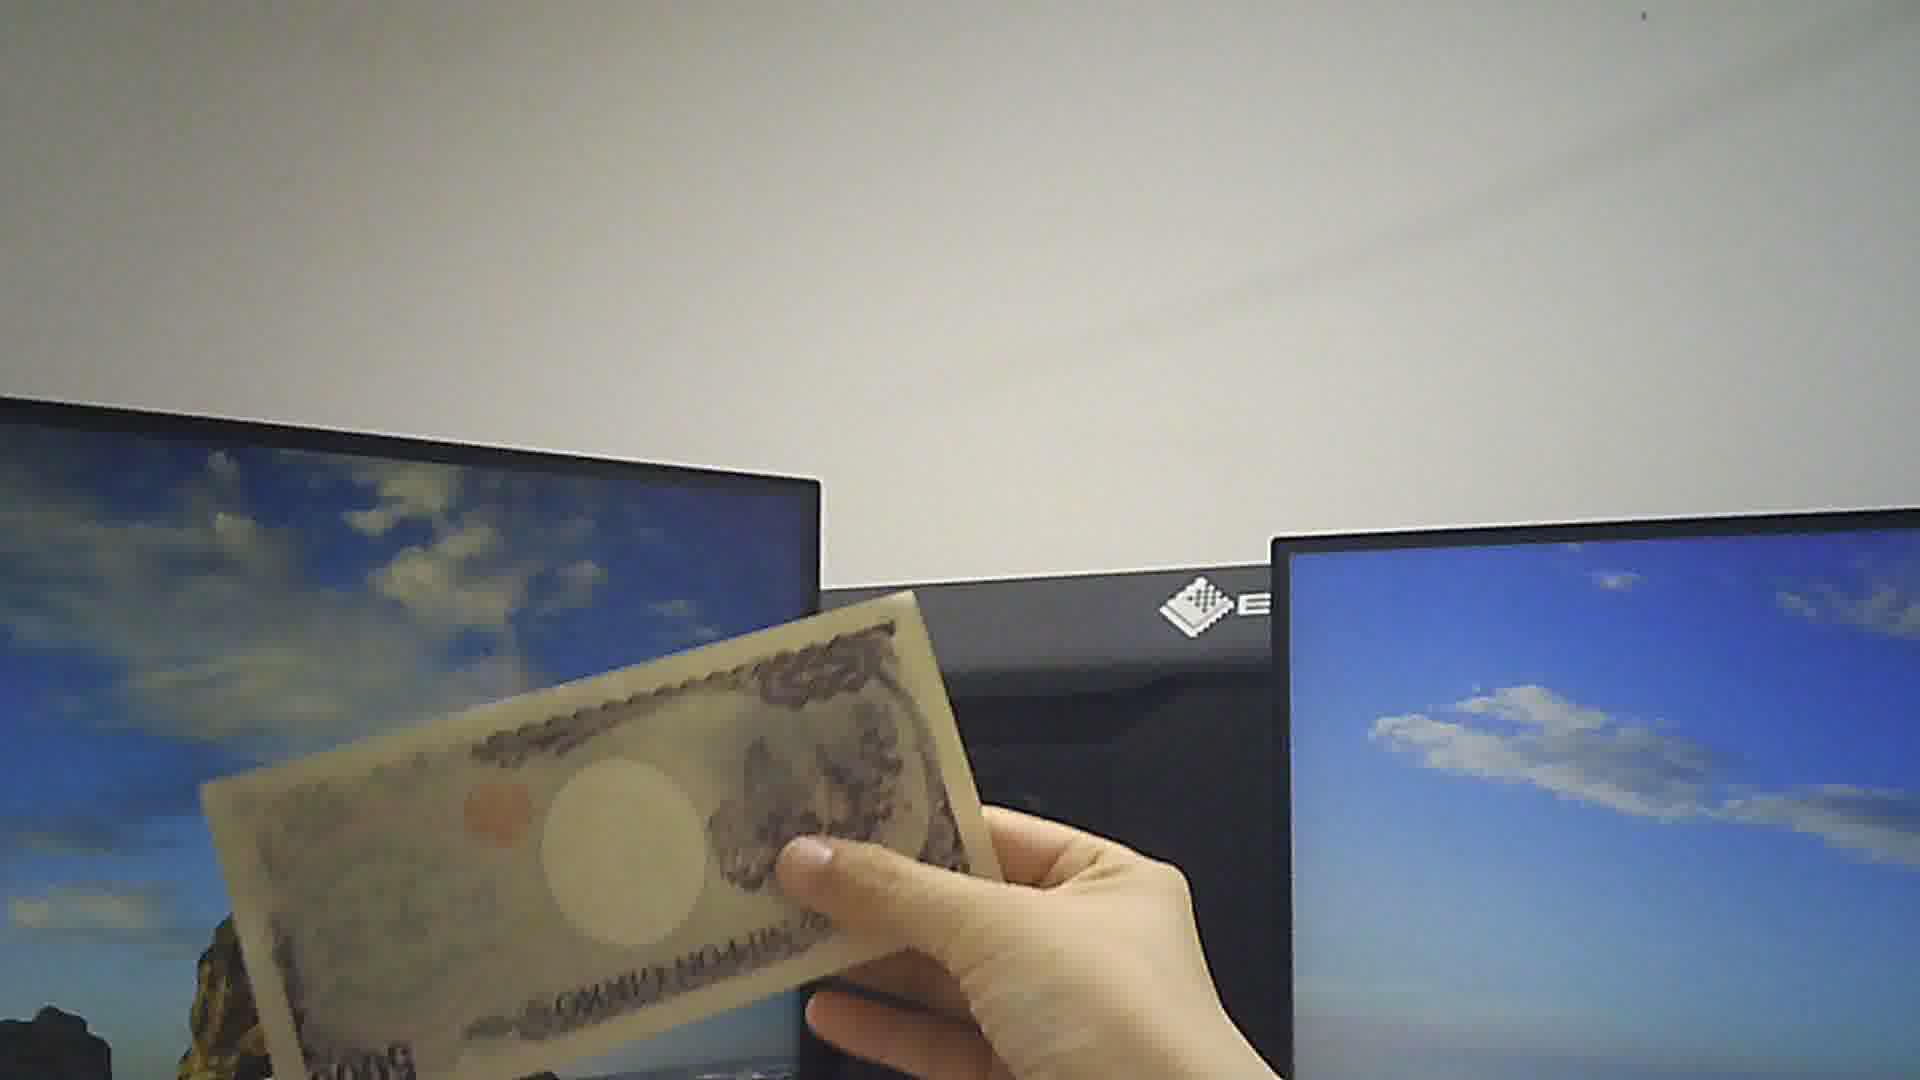5,000 Yen: (193, 596, 1026, 1079)
